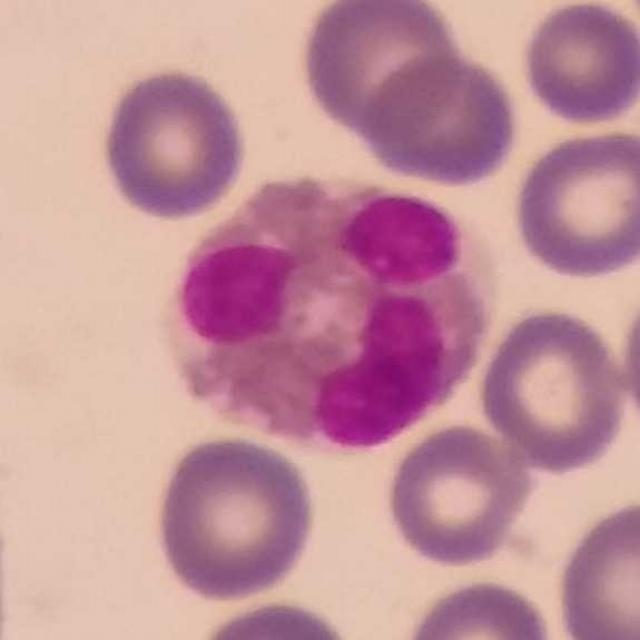eosino: (158, 170, 498, 450)
